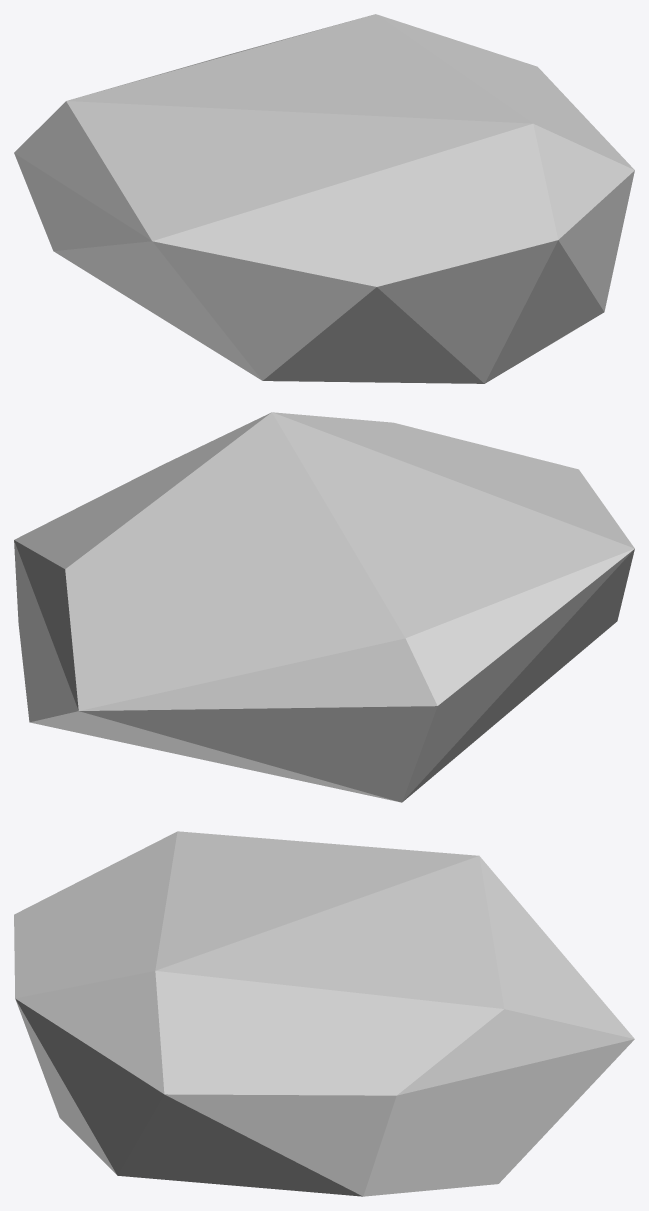
File: Stone 5.fbx
The picture shows the model from 3 angles, top to bottom: view 1: azimuth 30°, elevation 25°; view 2: azimuth 150°, elevation 25°; view 3: azimuth 270°, elevation 25°; orthographic projection. The views are drawn at different scales.
Parts seen in each view (by area): view 1: Stone 5; view 2: Stone 5; view 3: Stone 5.
Boxes of the visible parts, x1,y1,x2,y2 form: Stone 5: (14,14,634,383); Stone 5: (14,412,634,802); Stone 5: (14,831,634,1196).
Size of the model in its own units: 5.43 by 2.03 by 5.91.
